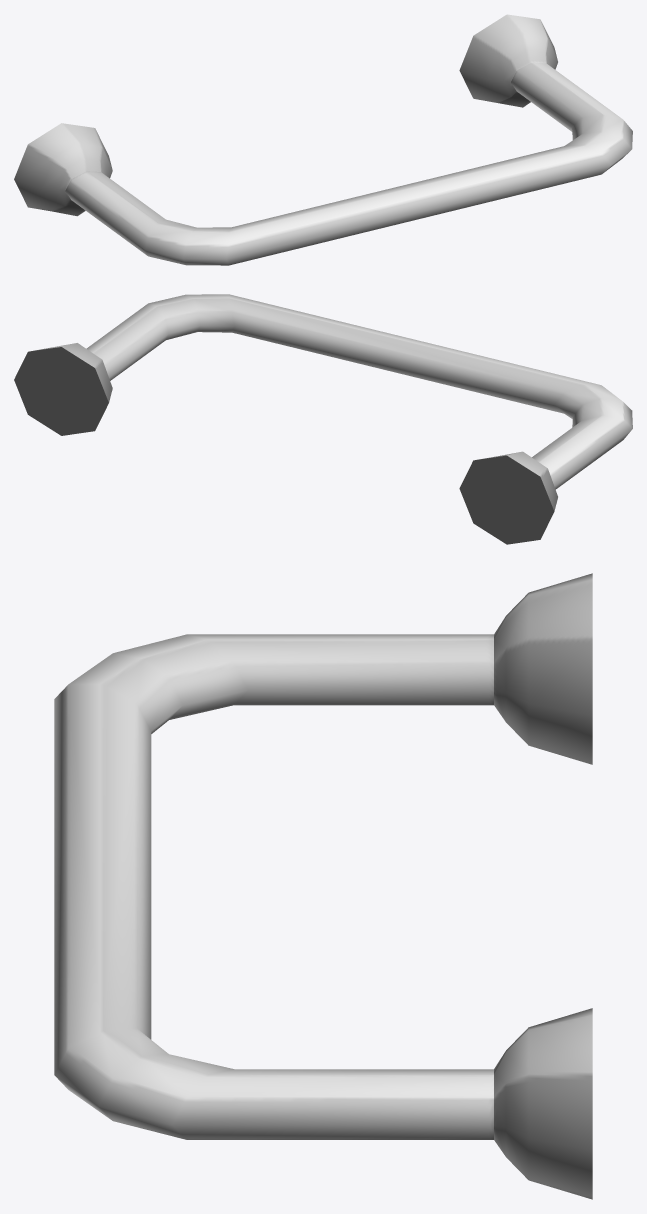
File: housepack_towels_towelBar_1.FBX
The picture shows the model from 3 angles, top to bottom: view 1: azimuth 30°, elevation 25°; view 2: azimuth 150°, elevation 25°; view 3: azimuth 270°, elevation 25°; orthographic projection. The views are drawn at different scales.
Parts seen in each view (by area): view 1: housepack_towels_towelBar_1; view 2: housepack_towels_towelBar_1; view 3: housepack_towels_towelBar_1.
Part boxes in pixels (x1=…): housepack_towels_towelBar_1: x1=14, y1=14, x2=632, y2=265; housepack_towels_towelBar_1: x1=14, y1=294, x2=632, y2=544; housepack_towels_towelBar_1: x1=54, y1=573, x2=592, y2=1199.
Bounding box in the file's own units: 40.37 × 6.36 × 17.42.
